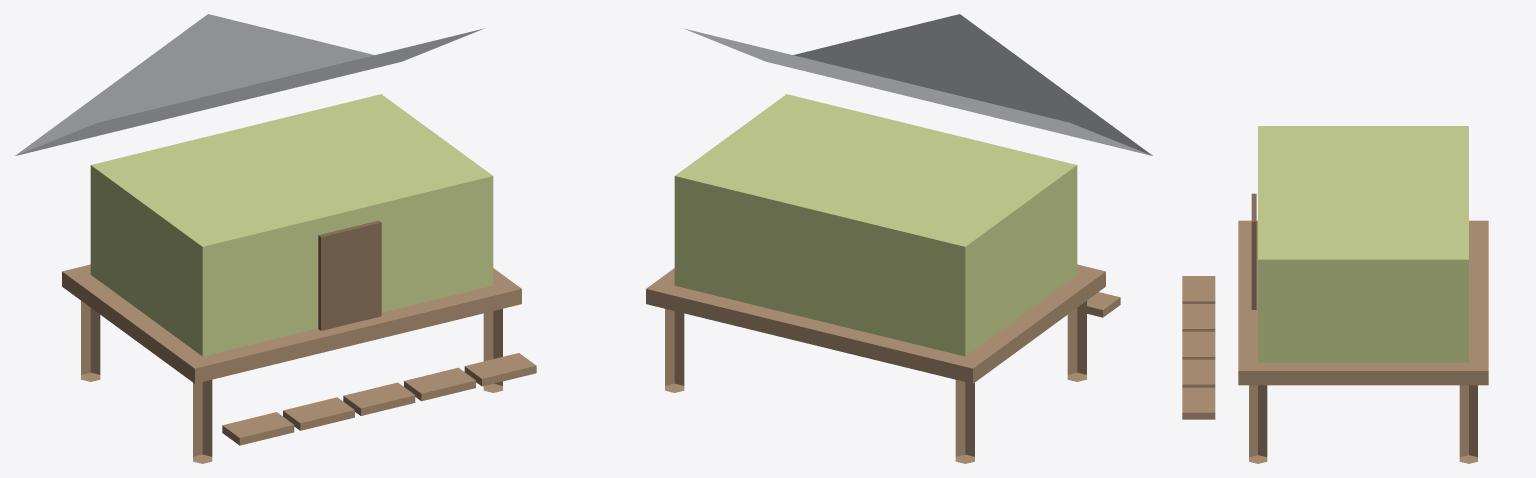
The model's file is rumah_panggung.glb.
3 views of the same model, side by side, from view 1: azimuth 30°, elevation 25°; view 2: azimuth 150°, elevation 25°; view 3: azimuth 270°, elevation 25° (orthographic). The views are drawn at different scales.
Visible parts, largest first — view 1: rumah_panggung; view 2: rumah_panggung; view 3: rumah_panggung.
Part boxes in pixels (left/top/right/bottom): rumah_panggung: left=15, top=14, right=536, bottom=463; rumah_panggung: left=646, top=14, right=1152, bottom=463; rumah_panggung: left=1182, top=126, right=1488, bottom=463.
Bounding box in the file's own units: 6.4 × 4.85 × 5.15.
